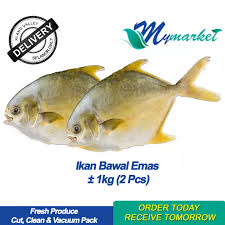Ikan Bawal: (65, 60, 224, 151), (2, 63, 117, 152)
